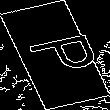P_E: (11, 30, 99, 80)
